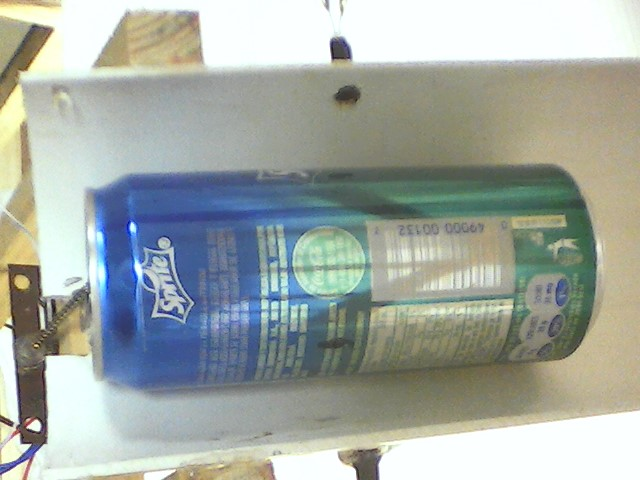lata: (80, 161, 607, 398)
